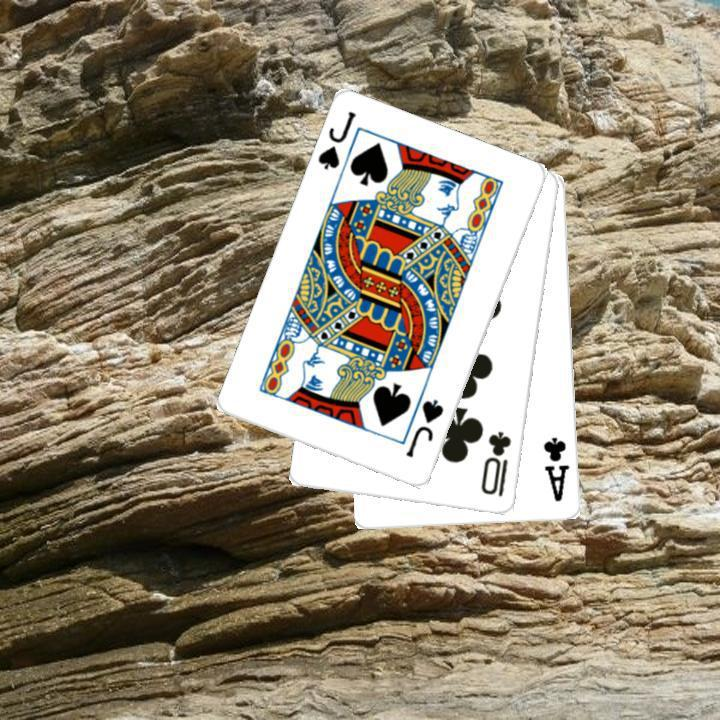10: (477, 427, 514, 499)
A: (540, 433, 572, 504)
J: (313, 107, 358, 172), (402, 395, 446, 460)
